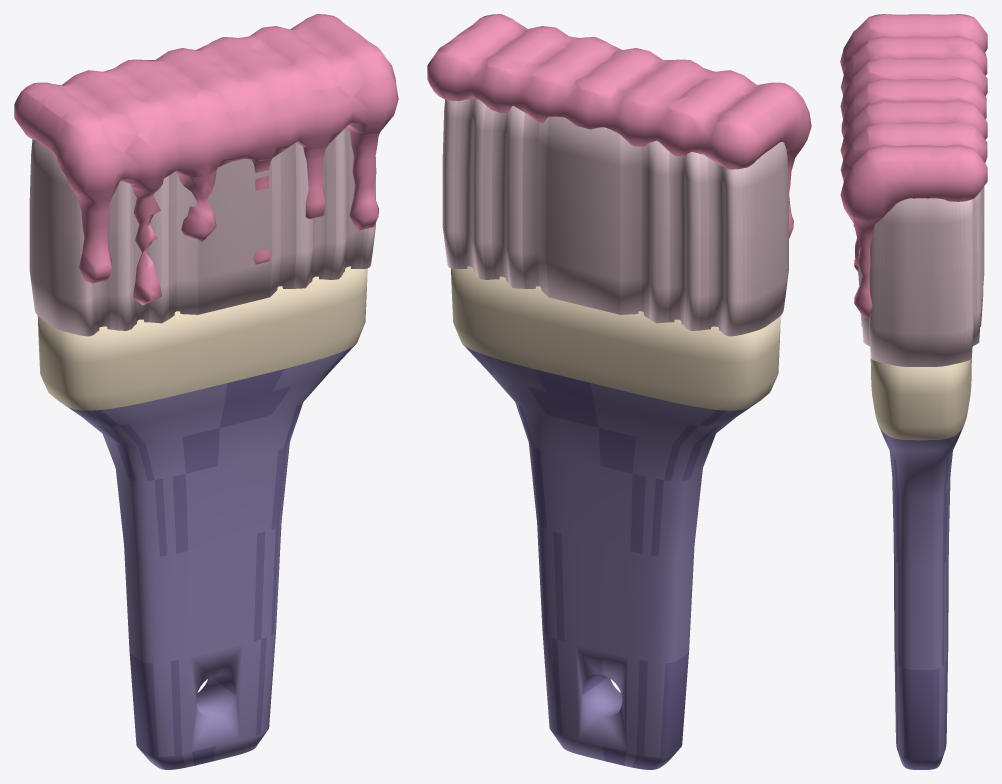
The model's file is Paintbrush_Hippo.glb.
3 renders of one model, left to right at view 1: azimuth 30°, elevation 25°; view 2: azimuth 150°, elevation 25°; view 3: azimuth 270°, elevation 25°, orthographic. The views are drawn at different scales.
Visible parts, largest first — view 1: Body, Paint, Bristles; view 2: Body, Bristles, Paint; view 3: Paint, Body, Bristles.
Boxes of the visible parts, x1,y1,x2,y2 form: Body: (37,266,367,769); Paint: (14,14,398,305); Bristles: (29,127,375,336); Body: (451,266,780,769); Bristles: (442,98,788,336); Paint: (427,14,811,238); Paint: (840,14,987,318); Body: (870,358,971,769); Bristles: (858,186,984,366).
Size of the model in its own units: 1.23 by 2.44 by 0.4919.
